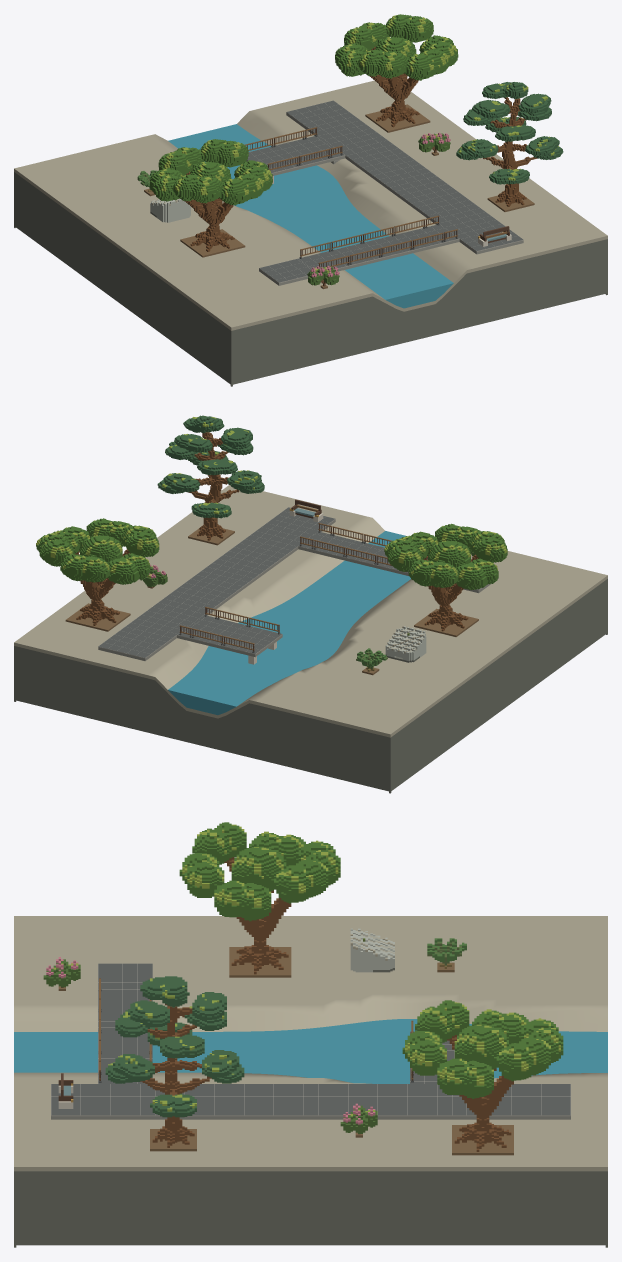
The picture shows the model from 3 angles, top to bottom: view 1: azimuth 30°, elevation 25°; view 2: azimuth 150°, elevation 25°; view 3: azimuth 270°, elevation 25°; orthographic projection. The views are drawn at different scales.
Parts seen in each view (by area): view 1: 连续岩土实体与最小原生岩块, 分层实心台基与独立石铺面 (×4), 阔叶分枝与开阔树冠母版 (×2), 同源床面裁切的真实水域, 松类体素分枝树母版, 贴地独立根域与表土 (×2), 分枝灌木与花灌木母版 (×2), 灰白水蚀岸石组件; view 2: 连续岩土实体与最小原生岩块, 阔叶分枝与开阔树冠母版 (×2), 同源床面裁切的真实水域, 分层实心台基与独立石铺面 (×3), 松类体素分枝树母版, 贴地独立根域与表土 (×2), 灰白水蚀岸石组件; view 3: 连续岩土实体与最小原生岩块, 阔叶分枝与开阔树冠母版 (×2), 分层实心台基与独立石铺面 (×3), 同源床面裁切的真实水域, 松类体素分枝树母版, 贴地独立根域与表土 (×3), 灰白水蚀岸石组件, 分枝灌木与花灌木母版 (×2), 蕨类与阔叶地被簇母版.
Part boxes in pixels (x1,y1,x2,y2): 连续岩土实体与最小原生岩块: [14, 80, 607, 386]; 分层实心台基与独立石铺面 (×4): [246, 100, 523, 285]; 阔叶分枝与开阔树冠母版 (×2): [150, 14, 458, 251]; 同源床面裁切的真实水域: [168, 124, 453, 308]; 松类体素分枝树母版: [456, 82, 563, 206]; 贴地独立根域与表土 (×2): [180, 104, 430, 257]; 分枝灌木与花灌木母版 (×2): [307, 132, 450, 286]; 灰白水蚀岸石组件: [150, 198, 190, 222]; 连续岩土实体与最小原生岩块: [14, 485, 607, 793]; 阔叶分枝与开阔树冠母版 (×2): [36, 518, 507, 631]; 同源床面裁切的真实水域: [168, 531, 410, 715]; 分层实心台基与独立石铺面 (×3): [98, 507, 409, 660]; 松类体素分枝树母版: [157, 415, 264, 540]; 贴地独立根域与表土 (×2): [65, 603, 478, 636]; 灰白水蚀岸石组件: [385, 626, 426, 662]; 连续岩土实体与最小原生岩块: [14, 916, 607, 1247]; 阔叶分枝与开阔树冠母版 (×2): [179, 822, 563, 1151]; 分层实心台基与独立石铺面 (×3): [51, 963, 570, 1119]; 同源床面裁切的真实水域: [14, 1019, 607, 1083]; 松类体素分枝树母版: [105, 976, 244, 1147]; 贴地独立根域与表土 (×3): [150, 947, 513, 1155]; 灰白水蚀岸石组件: [350, 928, 394, 972]; 分枝灌木与花灌木母版 (×2): [43, 957, 377, 1134]; 蕨类与阔叶地被簇母版: [427, 938, 466, 968].
Size of the model in its own units: 49.8 by 21.4 by 48.
Materials: 25 (24 with a texture image).
